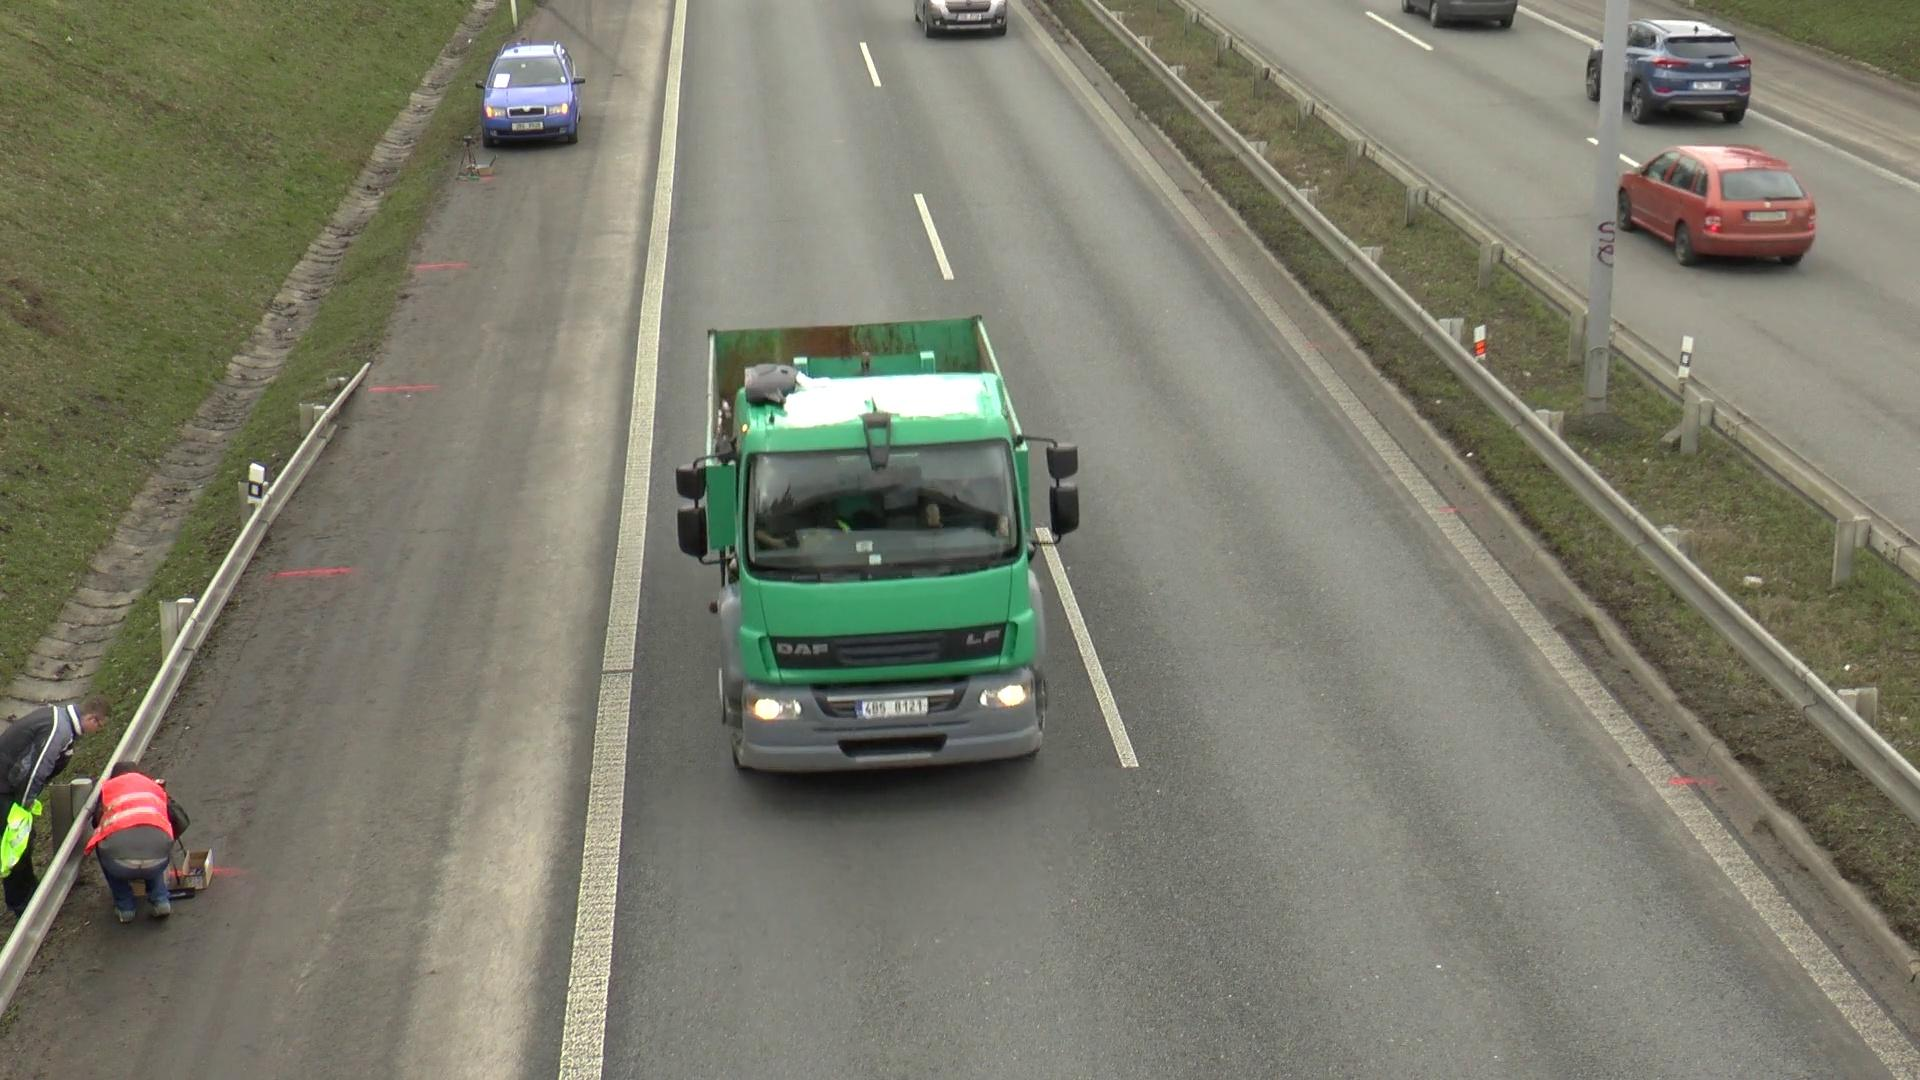Car: (1618, 146, 1822, 278), (1584, 16, 1757, 134), (468, 28, 587, 169), (912, 0, 1033, 44), (1408, 0, 1528, 40)
Human: (0, 678, 85, 917), (100, 750, 179, 950)
Lorry: (694, 308, 1094, 801)
